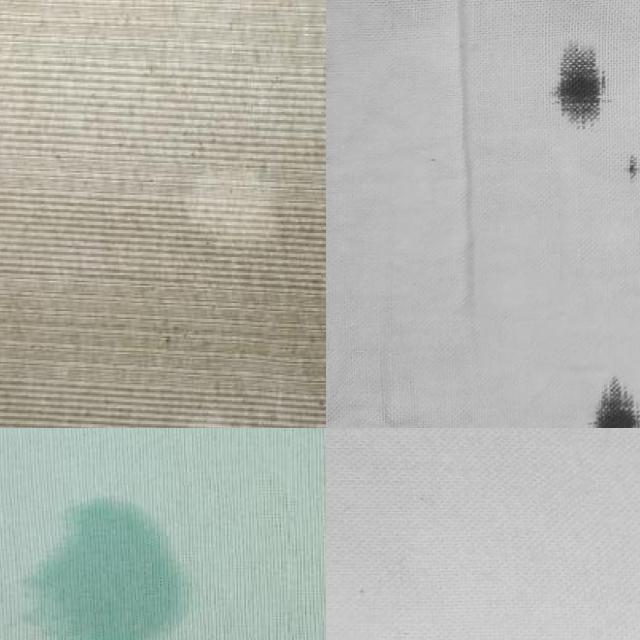Thread_other: (0, 488, 206, 640), (121, 148, 323, 288), (543, 25, 640, 187), (551, 350, 640, 428)
